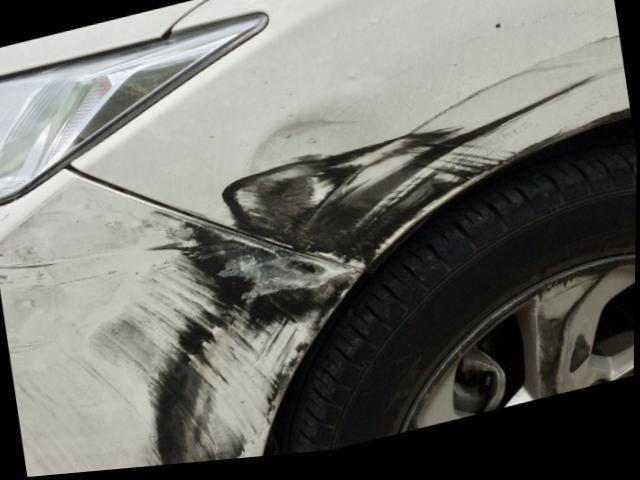scratch: (212, 44, 631, 280), (0, 211, 365, 478)
